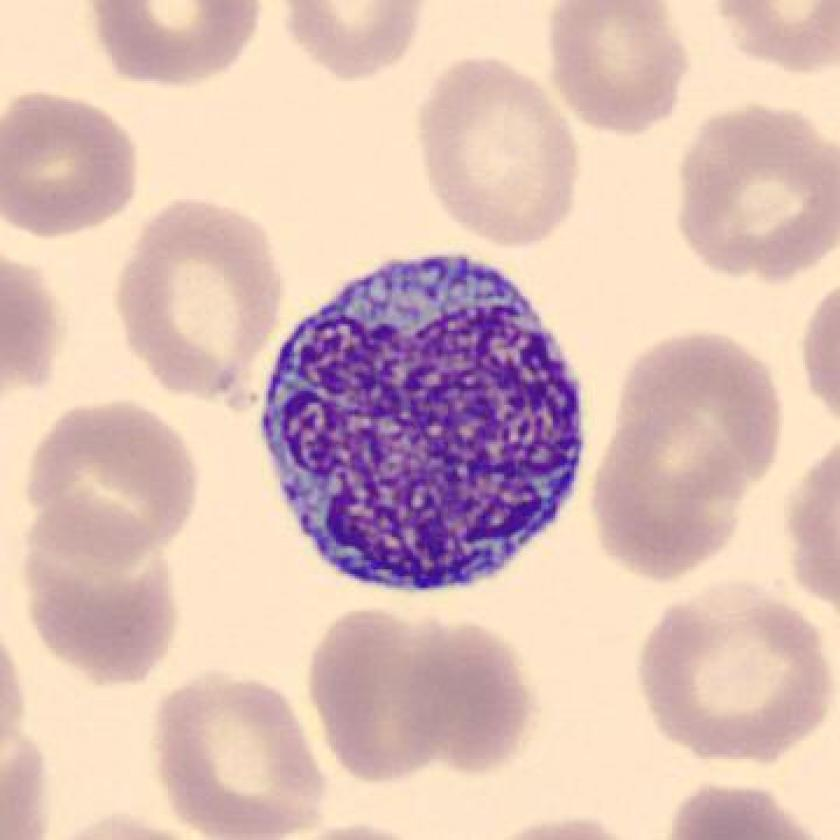monocyte: (239, 235, 610, 607)
